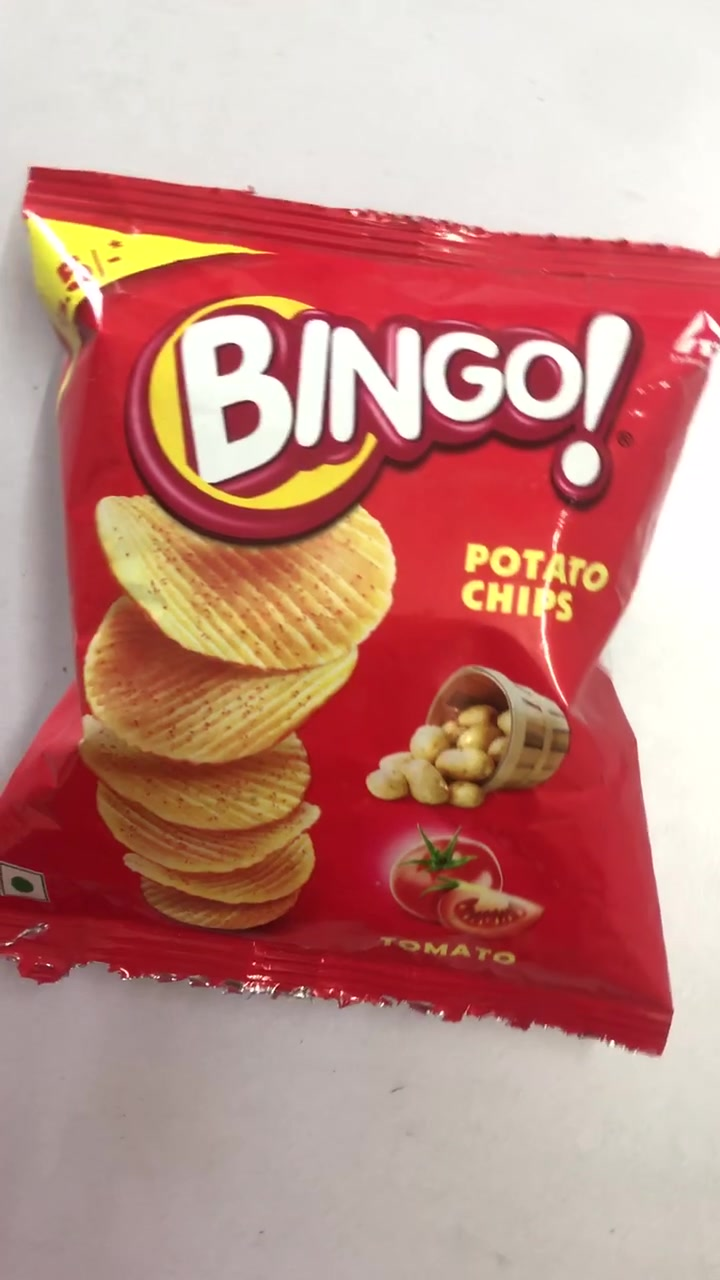Bingo: (13, 171, 720, 1057)
